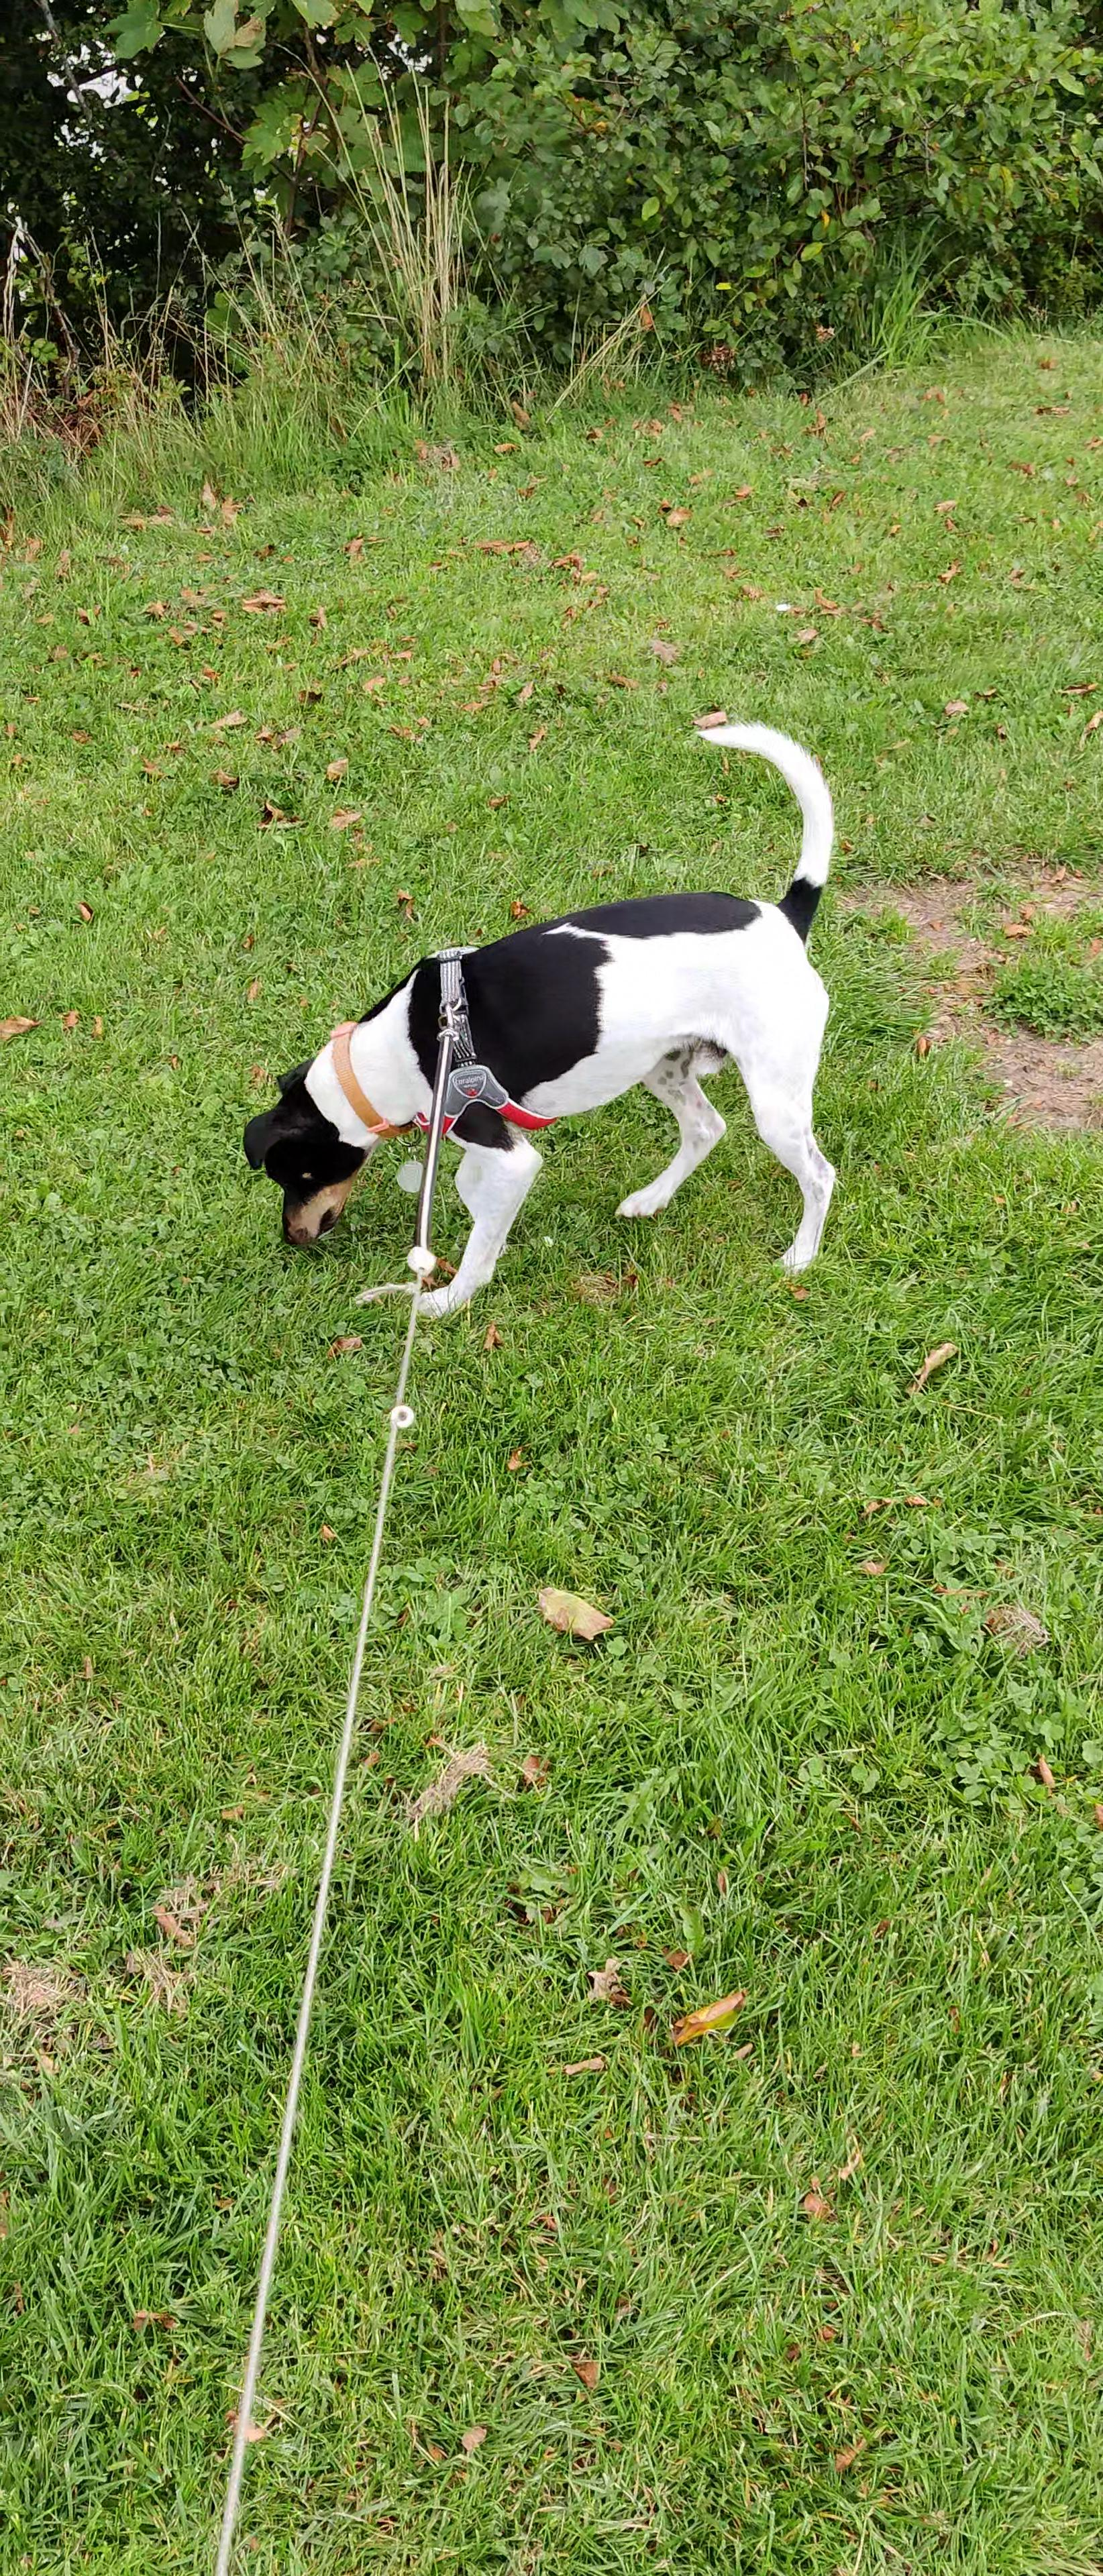Dog: (240, 718, 851, 1326)
